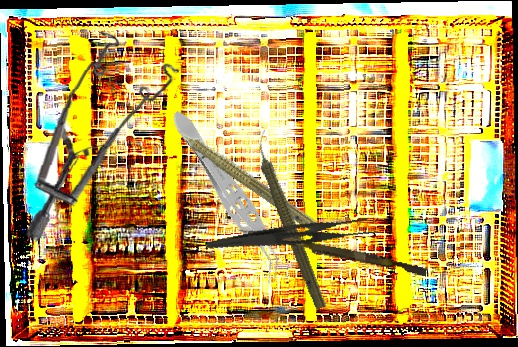Dressing Forceps: (204, 207, 382, 269)
Handpiece: (163, 114, 327, 238), (245, 128, 334, 312)
Pusher: (237, 226, 428, 277)
Speculum: (24, 26, 183, 249)
Tissue Forceps: (162, 104, 295, 285)
